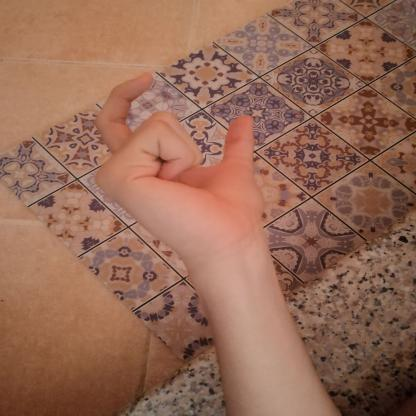NOON: (77, 61, 280, 272)
